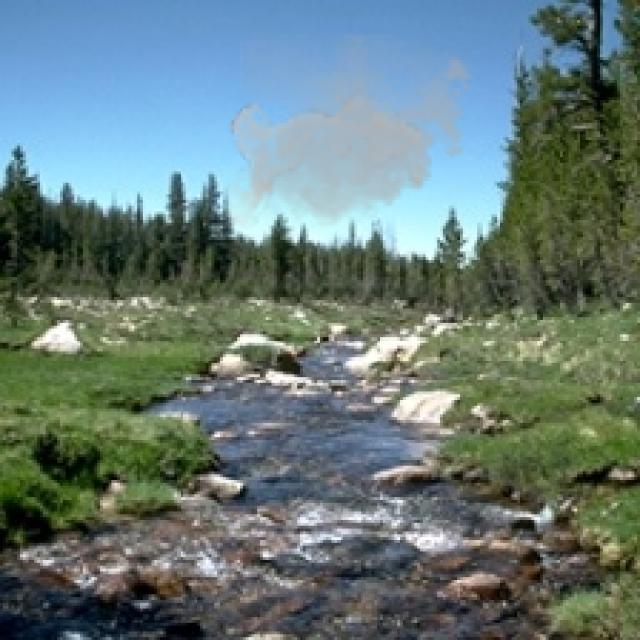Smoke: (225, 34, 480, 234)
